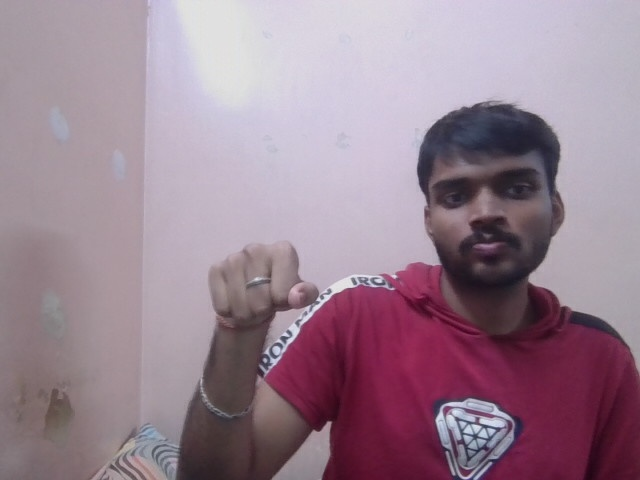Yes: (197, 236, 322, 324)
